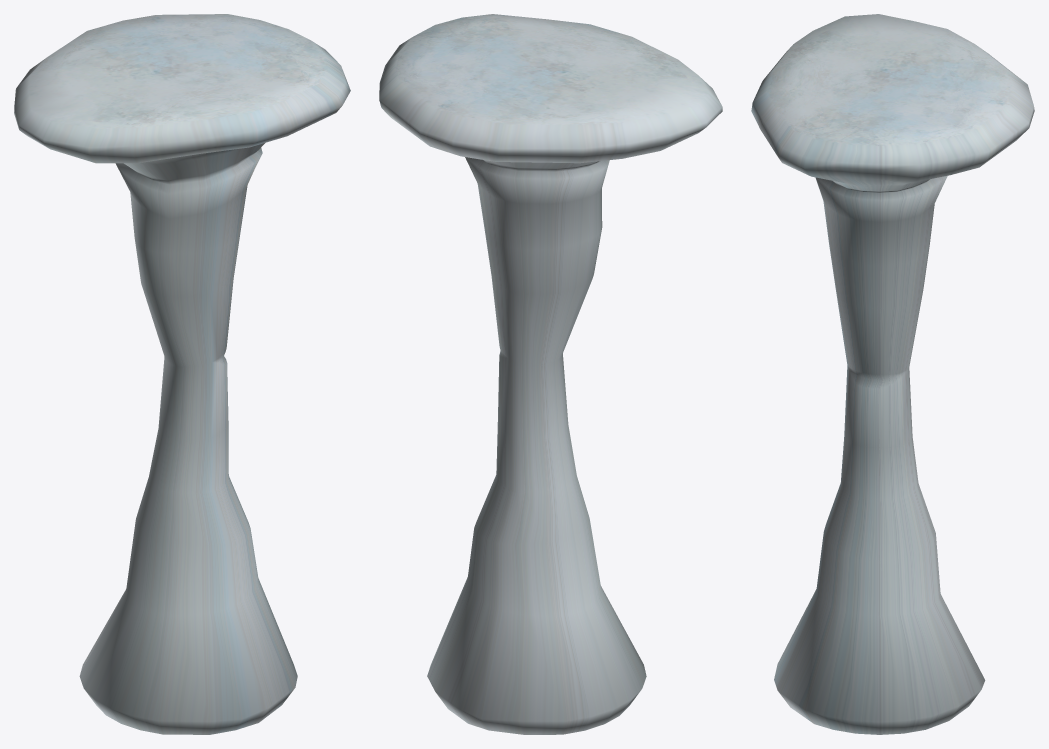
File: P_RockDesert_HoodooCliff09.obj
3 views of the same model, side by side, from view 1: azimuth 30°, elevation 25°; view 2: azimuth 150°, elevation 25°; view 3: azimuth 270°, elevation 25° (orthographic). The views are drawn at different scales.
Size of the model in its own units: 25.61 by 51.12 by 21.08.
